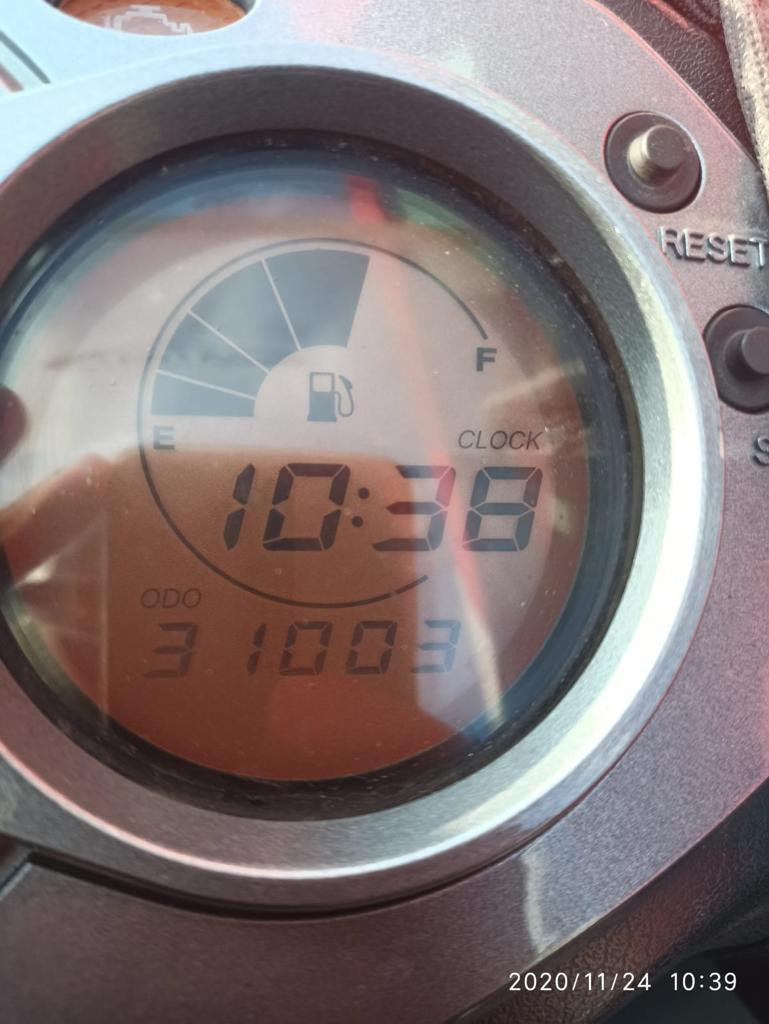0: (263, 460, 348, 555), (343, 619, 399, 675), (278, 620, 333, 676)
1: (219, 458, 257, 557), (245, 622, 266, 676)
3: (375, 461, 459, 555), (142, 621, 198, 679), (410, 617, 462, 674)
8: (467, 463, 545, 555)
X: (350, 483, 369, 532), (151, 423, 179, 452), (474, 344, 499, 374), (139, 587, 160, 609), (181, 586, 201, 608), (160, 586, 179, 609), (489, 428, 508, 450), (457, 428, 474, 448), (527, 429, 544, 449), (508, 431, 525, 450), (475, 429, 487, 450)
odometer: (0, 140, 599, 820)
